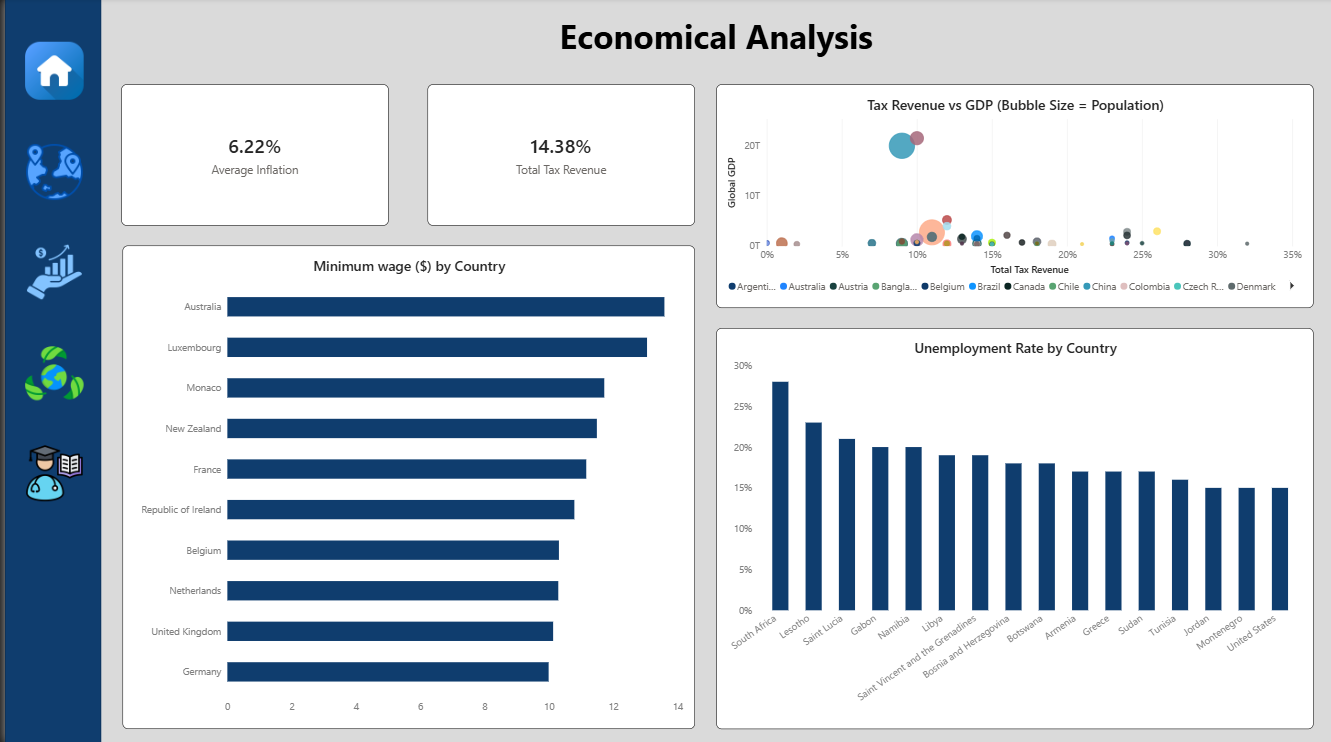

Layout of this report page (visuals, bound fields, positions):
{"tool":"powerbi","page":{"name":"Economics","canvas":[1920,1080],"ordinal":2},"visuals":[{"type":"shape","box":[0,0,139.3,1080.4],"z":0},{"type":"image","box":[16.3,63.3,110.4,84.4],"z":0,"group":"g1"},{"type":"textbox","box":[139.3,21.7,1780.7,74.2],"z":1000},{"type":"image","box":[16.3,209.1,110.4,84.4],"z":1000,"group":"g1"},{"type":"card","fields":{"Values":["Measure.Average Inflation"]},"box":[168.3,124.9,387.3,204.5],"z":2000},{"type":"image","box":[16.3,355,110.4,84.4],"z":2000,"group":"g1"},{"type":"card","fields":{"Values":["Measure.Total Tax Revenue"]},"box":[612.3,124.9,387.3,204.5],"z":3000},{"type":"image","box":[16.3,500.8,110.4,84.4],"z":3000,"group":"g1"},{"type":"barChart","title":"Minimum wage ($) by Country","fields":{"Category":["Fact_WorldData.Country"],"Y":["Sum(Fact_WorldData.Minimum wage ($))"]},"box":[170.1,358.3,828.8,700.3],"z":4000},{"type":"image","box":[16.3,646.7,110.4,84.4],"z":4000,"group":"g1"},{"type":"scatterChart","title":"Tax Revenue vs GDP (Bubble Size = Population)","fields":{"Series":["Fact_WorldData.Country"],"Size":["Measure.Total Population"],"X":["Measure.Total Tax Revenue"],"Y":["Measure.Global GDP"]},"box":[1029.7,124.9,865,323.9],"z":5000},{"type":"columnChart","fields":{"Category":["Dim_Country.Country"],"Y":["Measure.Unemployment Rate"]},"box":[1029.7,477.8,865,580.9],"z":6000},{"type":"group","id":"g1","title":"Group 1","box":[16.3,63.3,110.4,667.8],"z":6001}]}

Visuals, with their boxes in screenshot pixels (x1, y1, x2, y2), scaled from the page's 1920x1080 canvas onto the 1331x742 screenshot:
shape: <bbox>0, 0, 97, 741</bbox>
image: <bbox>11, 43, 88, 101</bbox>
textbox: <bbox>97, 15, 1330, 66</bbox>
image: <bbox>11, 144, 88, 202</bbox>
card - Measure.Average Inflation: <bbox>117, 86, 385, 226</bbox>
image: <bbox>11, 244, 88, 302</bbox>
card - Measure.Total Tax Revenue: <bbox>424, 86, 693, 226</bbox>
image: <bbox>11, 344, 88, 402</bbox>
"Minimum wage ($) by Country" barChart: <bbox>118, 246, 692, 727</bbox>
image: <bbox>11, 444, 88, 502</bbox>
"Tax Revenue vs GDP (Bubble Size = Population)" scatterChart: <bbox>714, 86, 1313, 308</bbox>
columnChart - Dim_Country.Country x Measure.Unemployment Rate: <bbox>714, 328, 1313, 727</bbox>
"Group 1" group: <bbox>11, 43, 88, 502</bbox>
